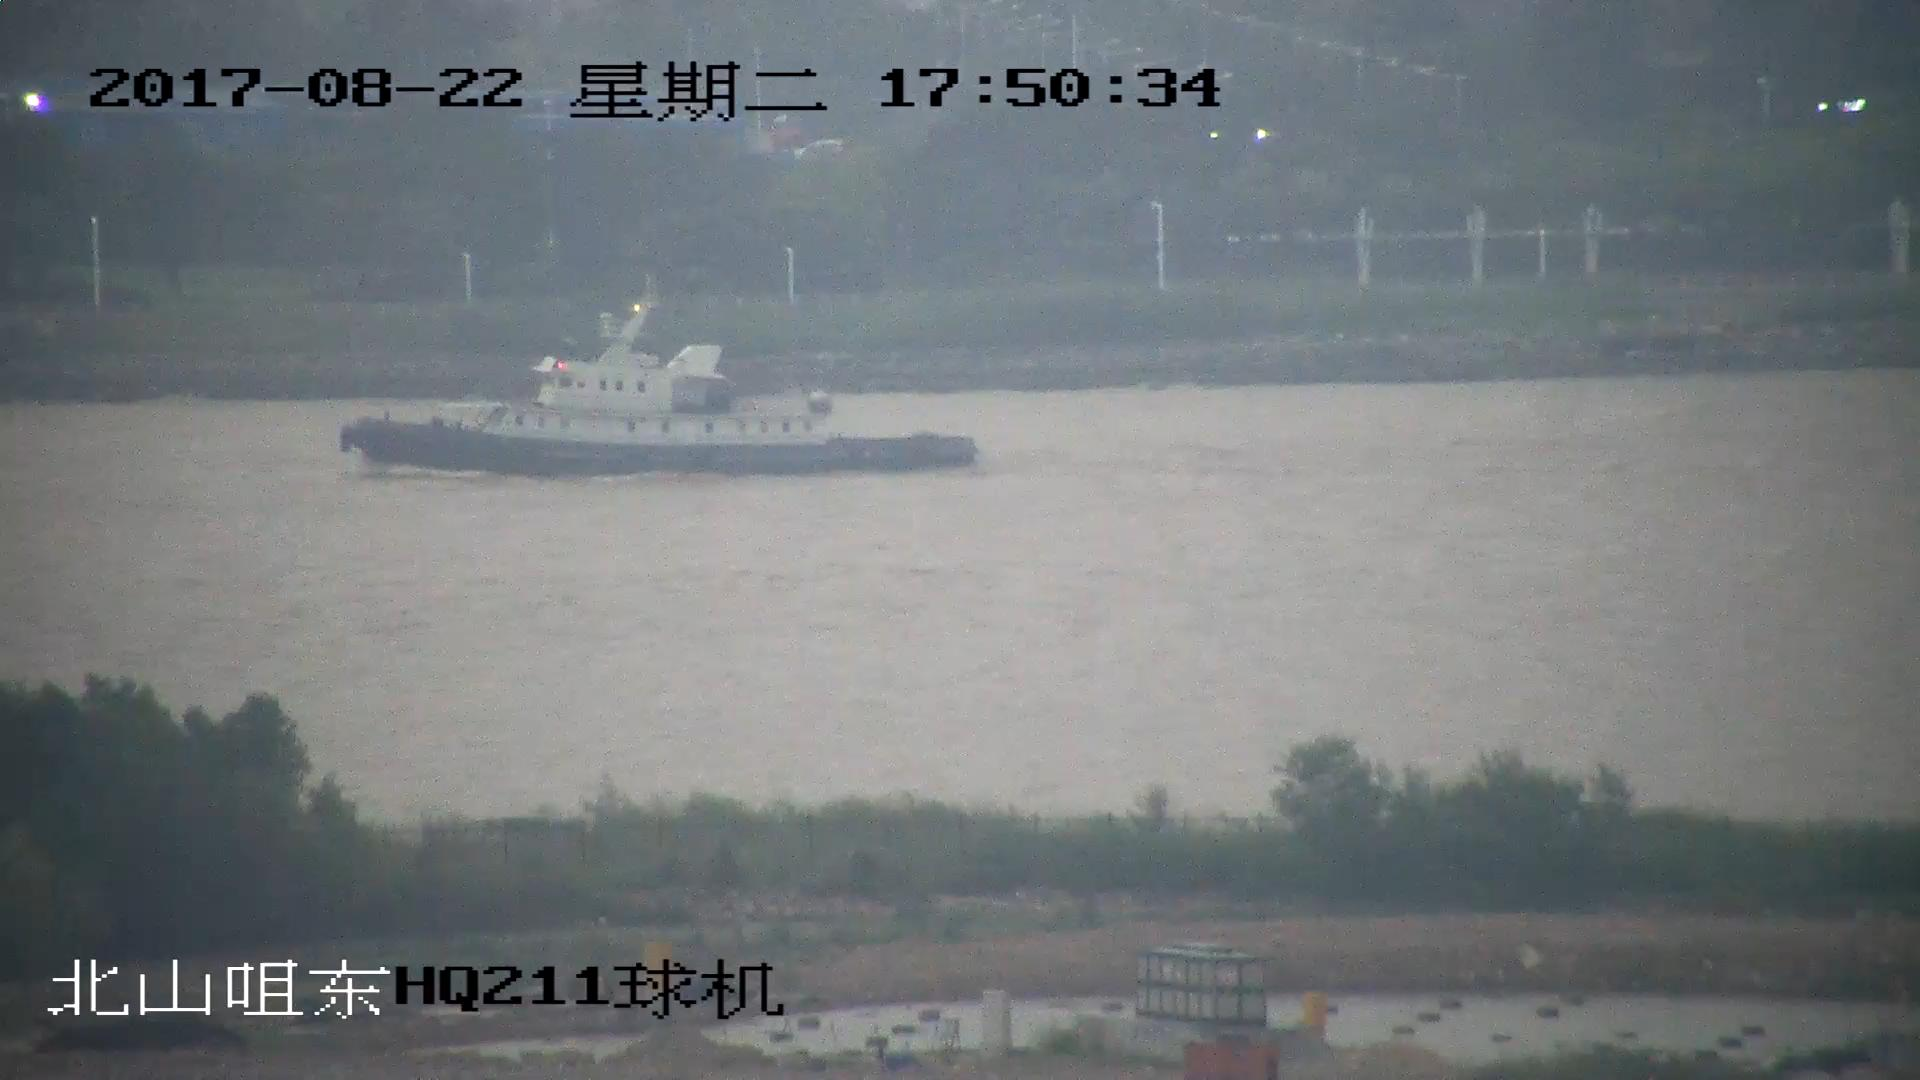passenger ship: (340, 273, 976, 477)
